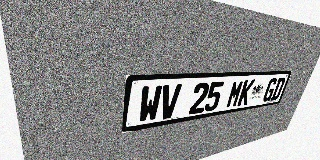2: (189, 82, 210, 115)
5: (204, 81, 224, 112)
D: (270, 77, 286, 101)
G: (262, 78, 278, 102)
K: (237, 79, 255, 106)
M: (225, 80, 245, 108)
V: (158, 84, 182, 120)
W: (138, 85, 163, 123)
